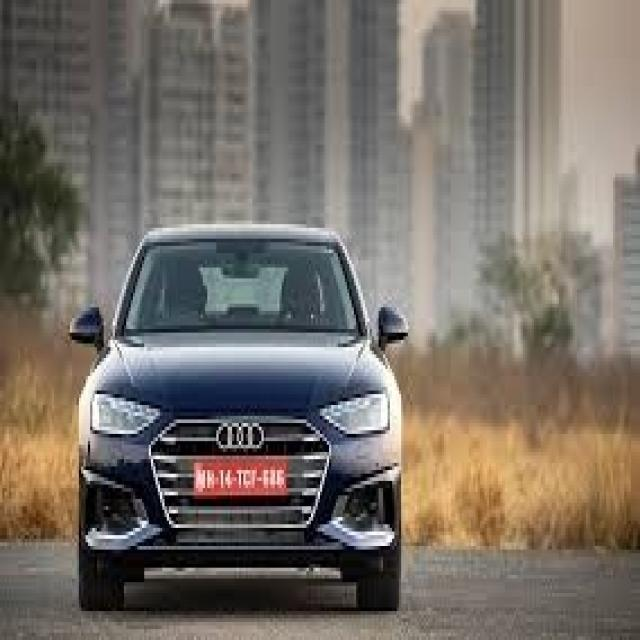black: (426, 606, 459, 607)
blue: (84, 218, 455, 600)
